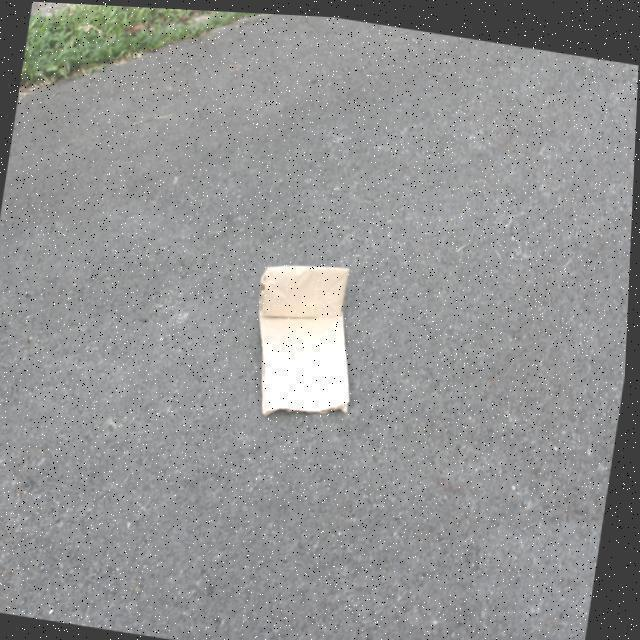Paper_Bag: (246, 249, 370, 426)
